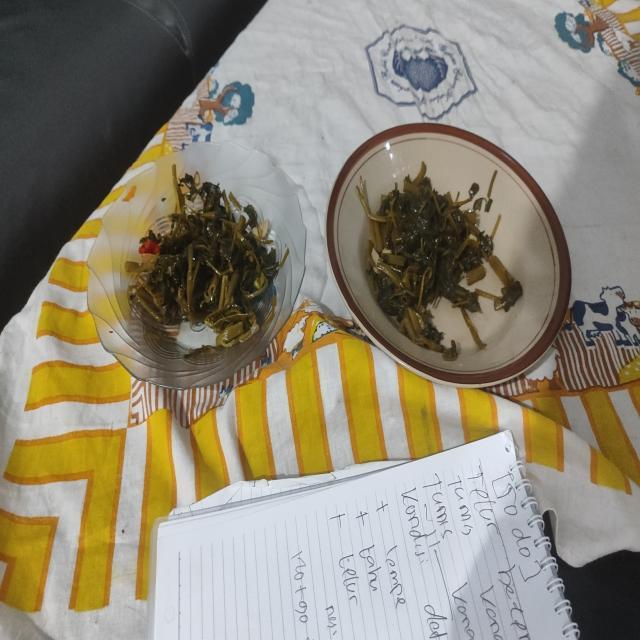tumis_kangkung: (356, 162, 523, 361), (126, 164, 289, 349)
